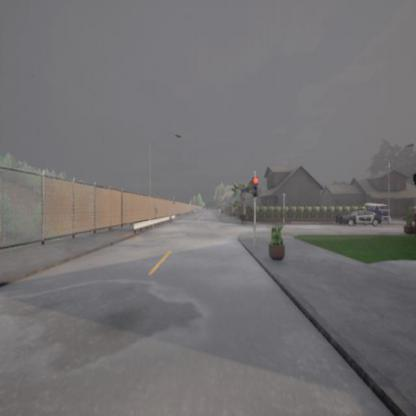traffic_light_red: (252, 176, 258, 197)
vehicle: (336, 207, 382, 225), (364, 203, 392, 223)
